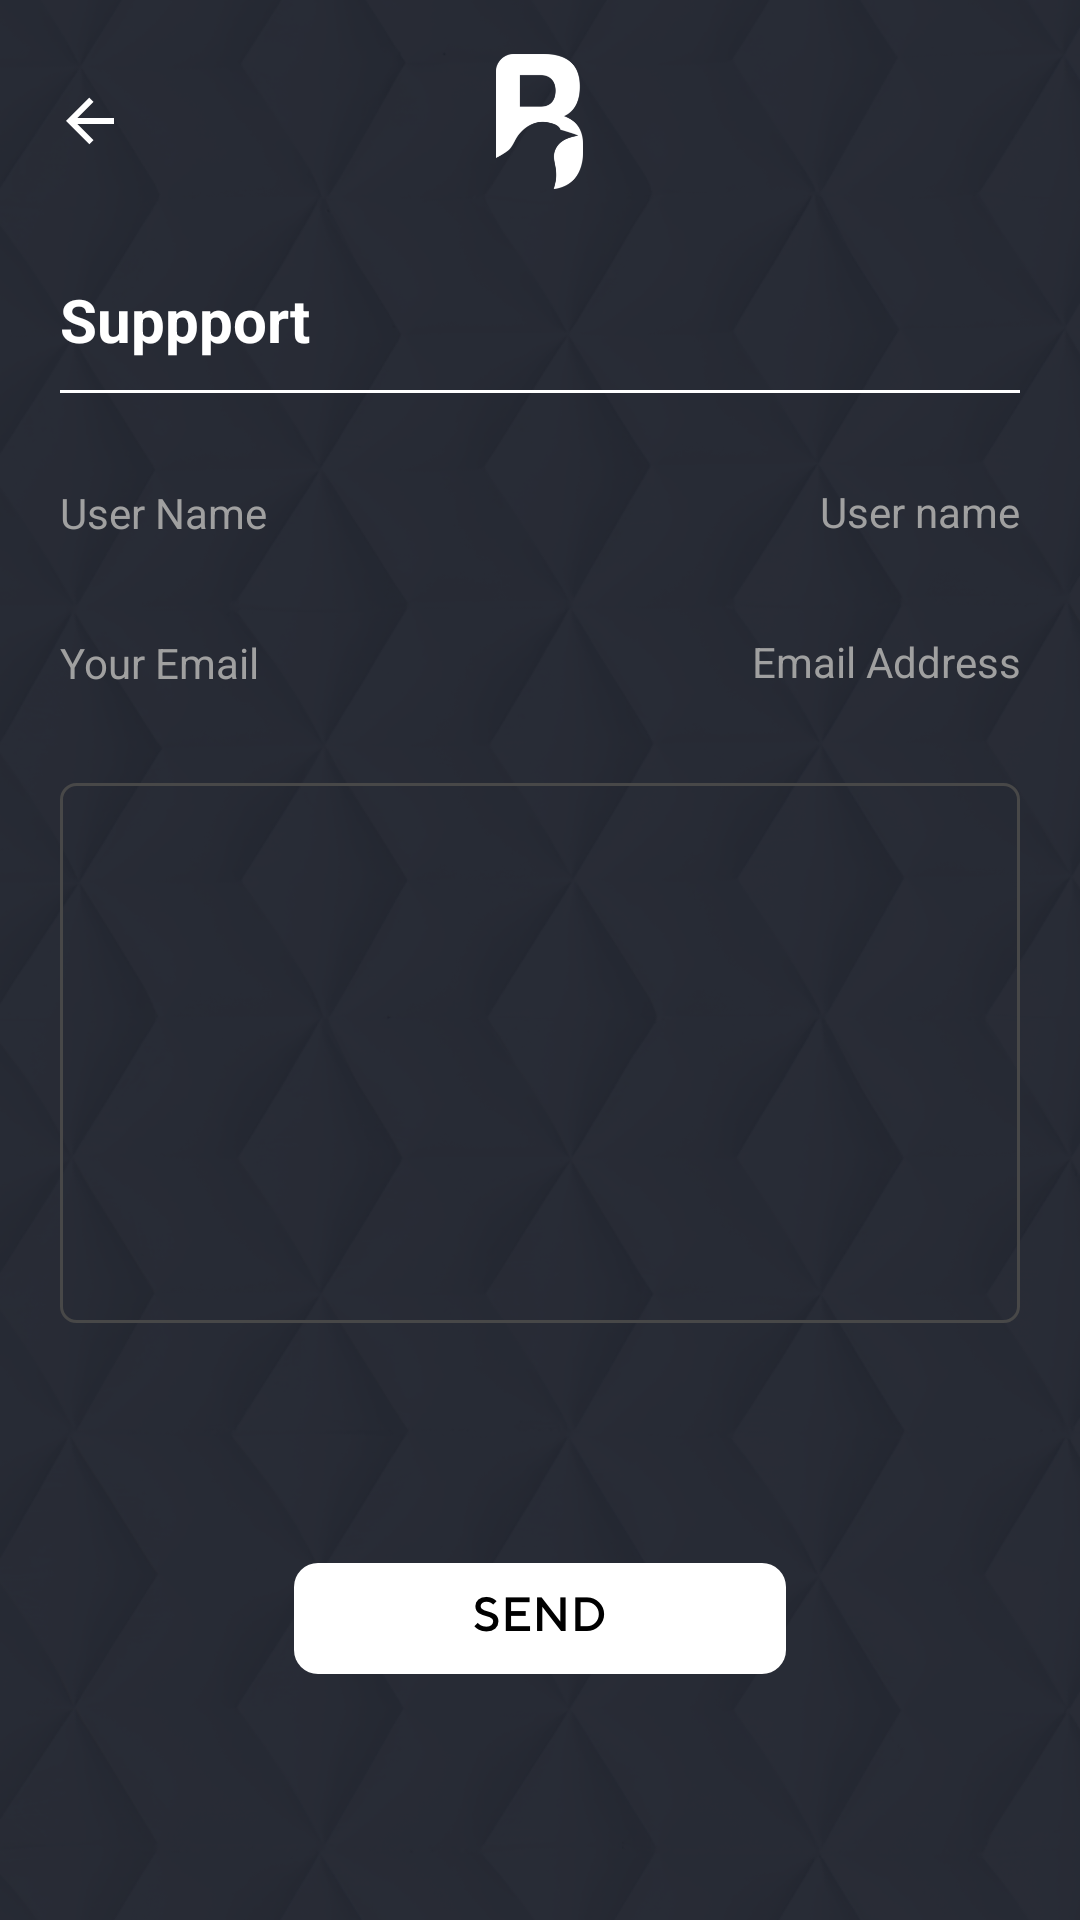

Named icons in this screenshot (1080*1920) and their bounding boxes, (x1, y1, x2, y2):
back: (66, 97, 114, 144)
